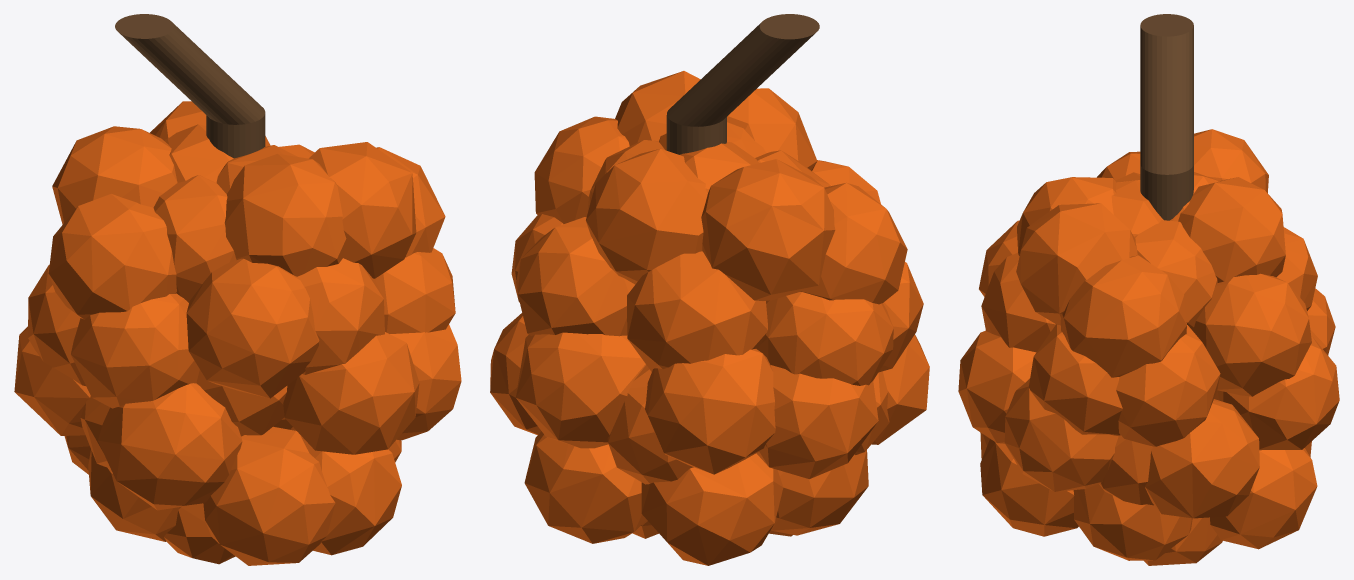
File: Berry - Copia.fbx
3 renders of one model, left to right at view 1: azimuth 30°, elevation 25°; view 2: azimuth 150°, elevation 25°; view 3: azimuth 270°, elevation 25°, orthographic. The views are drawn at different scales.
Parts seen in each view (by area): view 1: Sphere; view 2: Sphere; view 3: Sphere.
Boxes of the visible parts, x1,y1,x2,y2 form: Sphere: (14, 14, 461, 565); Sphere: (490, 14, 929, 565); Sphere: (958, 14, 1339, 565).
Bounding box in the file's own units: 614 × 824 × 600.
